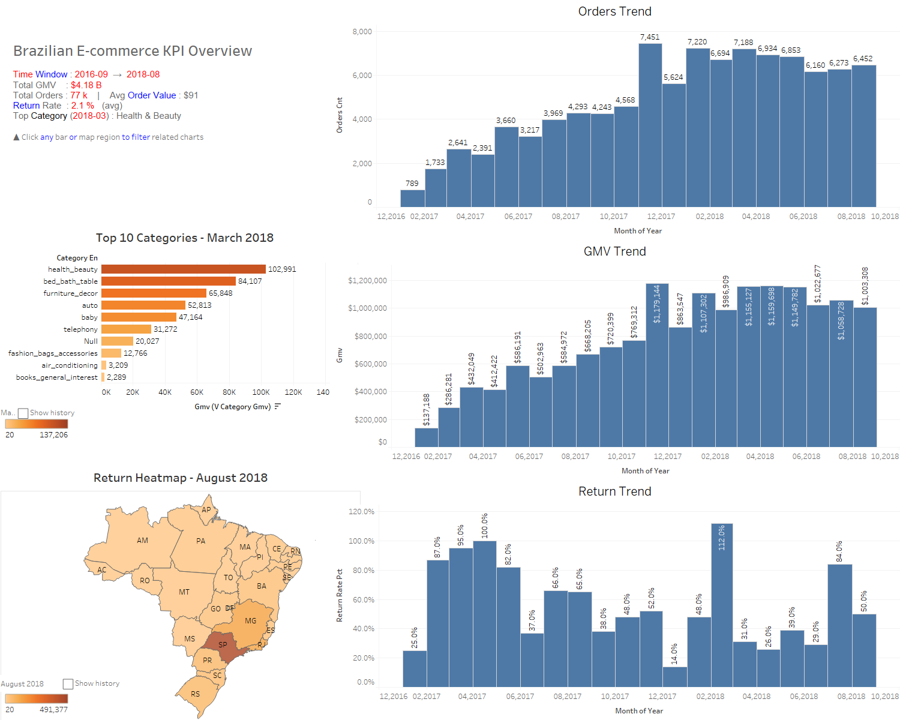

The page's visual inventory and layout, read from the dashboard file:
{"tool":"tableau","page":{"name":"Dashboard","canvas":[1500,1200],"ordinal":0},"visuals":[{"type":"worksheet","title":"Orders Trend","mark":"Bar","rows":["orders_cnt"],"cols":["Ym (copy)_2961679712781590531"],"box":[550,0,950,400]},{"type":"text","box":[19,8,533,292]},{"type":"worksheet","title":"Top 10 Categories","mark":"Bar","rows":["category_en"],"cols":["gmv (v_category_gmv)"],"box":[8,375,600,350]},{"type":"worksheet","title":"GMV Trend","mark":"Bar","rows":["gmv"],"cols":["Ym (copy)_2961679712781590531"],"box":[550,400,950,400]},{"type":"currpage","title":"Top 10 Categories","box":[0.8,675,124.5,25]},{"type":"legend","title":"Top 10 Categories","param":"[federated.1aomb7n1fmrqzp110l2g21vdwmbe].[sum:gmv (v_category_gmv):qk]","box":[5,695,113,37]},{"type":"worksheet","title":"Return Heatmap","mark":"Multipolygon","box":[1,775,600,430]},{"type":"worksheet","title":"Return Trend","mark":"Bar","rows":["return_rate_pct"],"cols":["Ym (copy)_2961679712781590531"],"box":[550,800,950,400]},{"type":"currpage","title":"Return Heatmap","box":[0.8,1125,198.8,28]},{"type":"legend","title":"Return Heatmap","param":"[federated.1aomb7n1fmrqzp110l2g21vdwmbe].[sum:gmv (v_state_gmv):qk]","box":[5,1153,113,37]}]}

Visuals, with their boxes in screenshot pixels (x1, y1, x2, y2), scaled from the page's 1500x1200 canvas onto the 900x720 screenshot:
"Orders Trend" worksheet (Bar marks): region(330, 0, 899, 240)
text: region(11, 5, 331, 180)
"Top 10 Categories" worksheet (Bar marks): region(5, 225, 365, 435)
"GMV Trend" worksheet (Bar marks): region(330, 240, 899, 480)
"Top 10 Categories" currpage: region(0, 405, 75, 420)
"Top 10 Categories" legend: region(3, 417, 71, 439)
"Return Heatmap" worksheet (Multipolygon marks): region(1, 465, 361, 719)
"Return Trend" worksheet (Bar marks): region(330, 480, 899, 719)
"Return Heatmap" currpage: region(0, 675, 120, 692)
"Return Heatmap" legend: region(3, 692, 71, 714)
